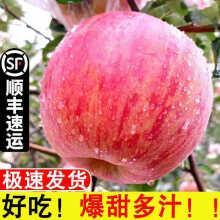apple: (36, 9, 213, 184)
